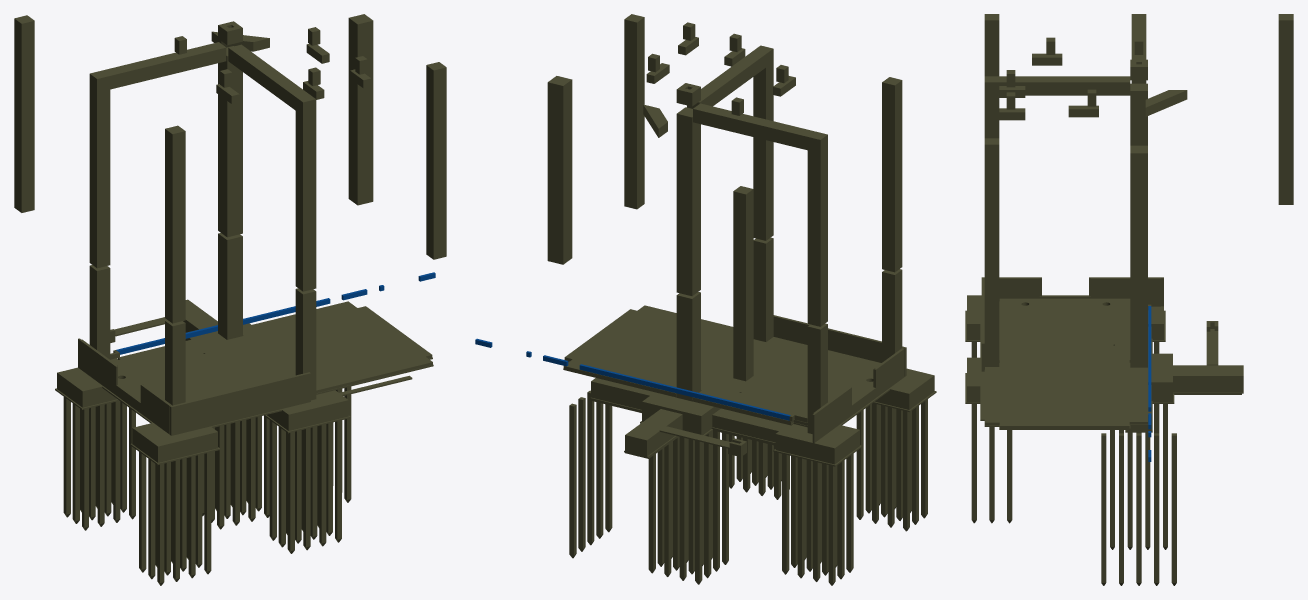
File: GCC-AAV-13220-30(13).fbx
3 views of the same model, side by side, from view 1: azimuth 30°, elevation 25°; view 2: azimuth 150°, elevation 25°; view 3: azimuth 270°, elevation 25° (orthographic). The views are drawn at different scales.
Parts seen in each view (by area): view 1: PANEL 1 of SBFRAMEWORK /13220-ST-001/CI/KJ4/FS/FS_314, PANEL 1 of SBFRAMEWORK /13220-ST-001/CI/KJ2/K/K_300, PANEL 1 of SBFRAMEWORK /13220-ST-001/CI/KJ4/PS/PS_036, PANEL 1 of SBFRAMEWORK /13220-ST-001/CI/KJ2/K/K_096, PANEL 1 of SBFRAMEWORK /13220-ST-001/CI/KJ2/K/K_182, PANEL 1 of SBFRAMEWORK /13220-ST-001/CI/KJ2/K/K_185, PANEL 1 of SBFRAMEWORK /13220-ST-001/CI/KJ2/K/K_301, PANEL 1 of SBFRAMEWORK /13220-ST-001/CI/KJ2/K/K_303, PANEL 1 of SBFRAMEWORK /13220-ST-001/CI/KJ2/K/K_027, PANEL 1 of SBFRAMEWORK /13220-ST-001/CI/KJ2/K/K_045, PANEL 1 of SBFRAMEWORK /13220-ST-001/CI/KJ4/PS/PS_018, PANEL 1 of SBFRAMEWORK /13220-ST-001/CI/KJ2/B/B_079 (+44 smaller); view 2: PANEL 1 of SBFRAMEWORK /13220-ST-001/CI/KJ4/FS/FS_314, PANEL 1 of SBFRAMEWORK /13220-ST-001/CI/KJ2/K/K_300, PANEL 1 of SBFRAMEWORK /13220-ST-001/CI/KJ2/K/K_027, PANEL 1 of SBFRAMEWORK /13220-ST-001/CI/KJ2/K/K_182, PANEL 1 of SBFRAMEWORK /13220-ST-001/CI/KJ2/K/K_303, PANEL 1 of SBFRAMEWORK /13220-ST-001/CI/KJ2/K/K_301, PANEL 1 of SBFRAMEWORK /13220-ST-001/CI/KJ2/K/K_185, PANEL 1 of SBFRAMEWORK /13220-ST-001/CI/KJ2/K/K_096, PANEL 1 of SBFRAMEWORK /13220-ST-001/CI/KJ4/PS/PS_018, PANEL 1 of SBFRAMEWORK /13220-ST-001/CI/KJ2/K/K_045, PANEL 1 of SBFRAMEWORK /13220-ST-001/CI/KJ2/B/B_079, PANEL 1 of SBFRAMEWORK /13220-ST-001/CI/KJ1/FM/FM_049 (+44 smaller); view 3: PANEL 1 of SBFRAMEWORK /13220-ST-001/CI/KJ4/FS/FS_314, PANEL 1 of SBFRAMEWORK /13220-ST-001/CI/KJ2/K/K_300, PANEL 1 of SBFRAMEWORK /13220-ST-001/CI/KJ2/K/K_185, PANEL 1 of SBFRAMEWORK /13220-ST-001/CI/KJ2/K/K_303, PANEL 1 of SBFRAMEWORK /13220-ST-001/CI/KJ4/PS/PS_018, PANEL 1 of SBFRAMEWORK /13220-ST-001/CI/KJ2/B/B_238, PANEL 1 of SBFRAMEWORK /13220-ST-001/CI/KJ1/FB/FB_107, PANEL 1 of SBFRAMEWORK /13220-ST-001/CI/KJ1/FM/FM_093, PANEL 1 of SBFRAMEWORK /13220-ST-001/CI/KJ2/K/K_027, PANEL 1 of SBFRAMEWORK /13220-ST-001/CI/KJ2/K/K_096, PANEL 1 of SBFRAMEWORK /13220-ST-001/CI/KJ2/K/K_301, PANEL 1 of SBFRAMEWORK /13220-ST-001/CI/KJ0/P/P_1127 (+21 smaller).
Boxes of the visible parts, left/top/right/bottom form: PANEL 1 of SBFRAMEWORK /13220-ST-001/CI/KJ4/FS/FS_314: left=112, top=301, right=432, bottom=401; PANEL 1 of SBFRAMEWORK /13220-ST-001/CI/KJ2/K/K_300: left=348, top=14, right=373, bottom=205; PANEL 1 of SBFRAMEWORK /13220-ST-001/CI/KJ4/PS/PS_036: left=170, top=372, right=310, bottom=435; PANEL 1 of SBFRAMEWORK /13220-ST-001/CI/KJ2/K/K_096: left=295, top=94, right=316, bottom=291; PANEL 1 of SBFRAMEWORK /13220-ST-001/CI/KJ2/K/K_182: left=89, top=70, right=110, bottom=268; PANEL 1 of SBFRAMEWORK /13220-ST-001/CI/KJ2/K/K_185: left=426, top=62, right=446, bottom=259; PANEL 1 of SBFRAMEWORK /13220-ST-001/CI/KJ2/K/K_301: left=165, top=125, right=185, bottom=323; PANEL 1 of SBFRAMEWORK /13220-ST-001/CI/KJ2/K/K_303: left=14, top=15, right=34, bottom=212; PANEL 1 of SBFRAMEWORK /13220-ST-001/CI/KJ2/K/K_027: left=218, top=46, right=242, bottom=237; PANEL 1 of SBFRAMEWORK /13220-ST-001/CI/KJ2/K/K_045: left=218, top=233, right=242, bottom=339; PANEL 1 of SBFRAMEWORK /13220-ST-001/CI/KJ4/PS/PS_018: left=78, top=338, right=171, bottom=434; PANEL 1 of SBFRAMEWORK /13220-ST-001/CI/KJ2/B/B_079: left=103, top=42, right=226, bottom=89; PANEL 1 of SBFRAMEWORK /13220-ST-001/CI/KJ4/FS/FS_314: left=563, top=305, right=881, bottom=425; PANEL 1 of SBFRAMEWORK /13220-ST-001/CI/KJ2/K/K_300: left=547, top=76, right=572, bottom=264; PANEL 1 of SBFRAMEWORK /13220-ST-001/CI/KJ2/K/K_027: left=676, top=107, right=700, bottom=295; PANEL 1 of SBFRAMEWORK /13220-ST-001/CI/KJ2/K/K_182: left=807, top=131, right=827, bottom=326; PANEL 1 of SBFRAMEWORK /13220-ST-001/CI/KJ2/K/K_303: left=733, top=186, right=753, bottom=381; PANEL 1 of SBFRAMEWORK /13220-ST-001/CI/KJ2/K/K_301: left=882, top=77, right=902, bottom=272; PANEL 1 of SBFRAMEWORK /13220-ST-001/CI/KJ2/K/K_185: left=624, top=14, right=644, bottom=209; PANEL 1 of SBFRAMEWORK /13220-ST-001/CI/KJ2/K/K_096: left=753, top=45, right=773, bottom=240; PANEL 1 of SBFRAMEWORK /13220-ST-001/CI/KJ4/PS/PS_018: left=812, top=348, right=904, bottom=442; PANEL 1 of SBFRAMEWORK /13220-ST-001/CI/KJ2/K/K_045: left=676, top=292, right=700, bottom=401; PANEL 1 of SBFRAMEWORK /13220-ST-001/CI/KJ2/B/B_079: left=693, top=103, right=814, bottom=150; PANEL 1 of SBFRAMEWORK /13220-ST-001/CI/KJ1/FM/FM_049: left=775, top=424, right=859, bottom=464; PANEL 1 of SBFRAMEWORK /13220-ST-001/CI/KJ4/FS/FS_314: left=985, top=298, right=1147, bottom=428; PANEL 1 of SBFRAMEWORK /13220-ST-001/CI/KJ2/K/K_300: left=1130, top=145, right=1147, bottom=329; PANEL 1 of SBFRAMEWORK /13220-ST-001/CI/KJ2/K/K_185: left=984, top=138, right=999, bottom=329; PANEL 1 of SBFRAMEWORK /13220-ST-001/CI/KJ2/K/K_303: left=1278, top=14, right=1293, bottom=204; PANEL 1 of SBFRAMEWORK /13220-ST-001/CI/KJ4/PS/PS_018: left=999, top=277, right=1163, bottom=306; PANEL 1 of SBFRAMEWORK /13220-ST-001/CI/KJ2/B/B_238: left=999, top=76, right=1130, bottom=95; PANEL 1 of SBFRAMEWORK /13220-ST-001/CI/KJ1/FB/FB_107: left=1173, top=365, right=1243, bottom=391; PANEL 1 of SBFRAMEWORK /13220-ST-001/CI/KJ1/FM/FM_093: left=1148, top=353, right=1172, bottom=402; PANEL 1 of SBFRAMEWORK /13220-ST-001/CI/KJ2/K/K_027: left=1130, top=83, right=1147, bottom=145; PANEL 1 of SBFRAMEWORK /13220-ST-001/CI/KJ2/K/K_096: left=984, top=76, right=999, bottom=138; PANEL 1 of SBFRAMEWORK /13220-ST-001/CI/KJ2/K/K_301: left=984, top=14, right=999, bottom=76; PANEL 1 of SBFRAMEWORK /13220-ST-001/CI/KJ0/P/P_1127: left=1154, top=433, right=1159, bottom=585.
Bounding box in the file's own units: 1121 × 1404 × 878.
